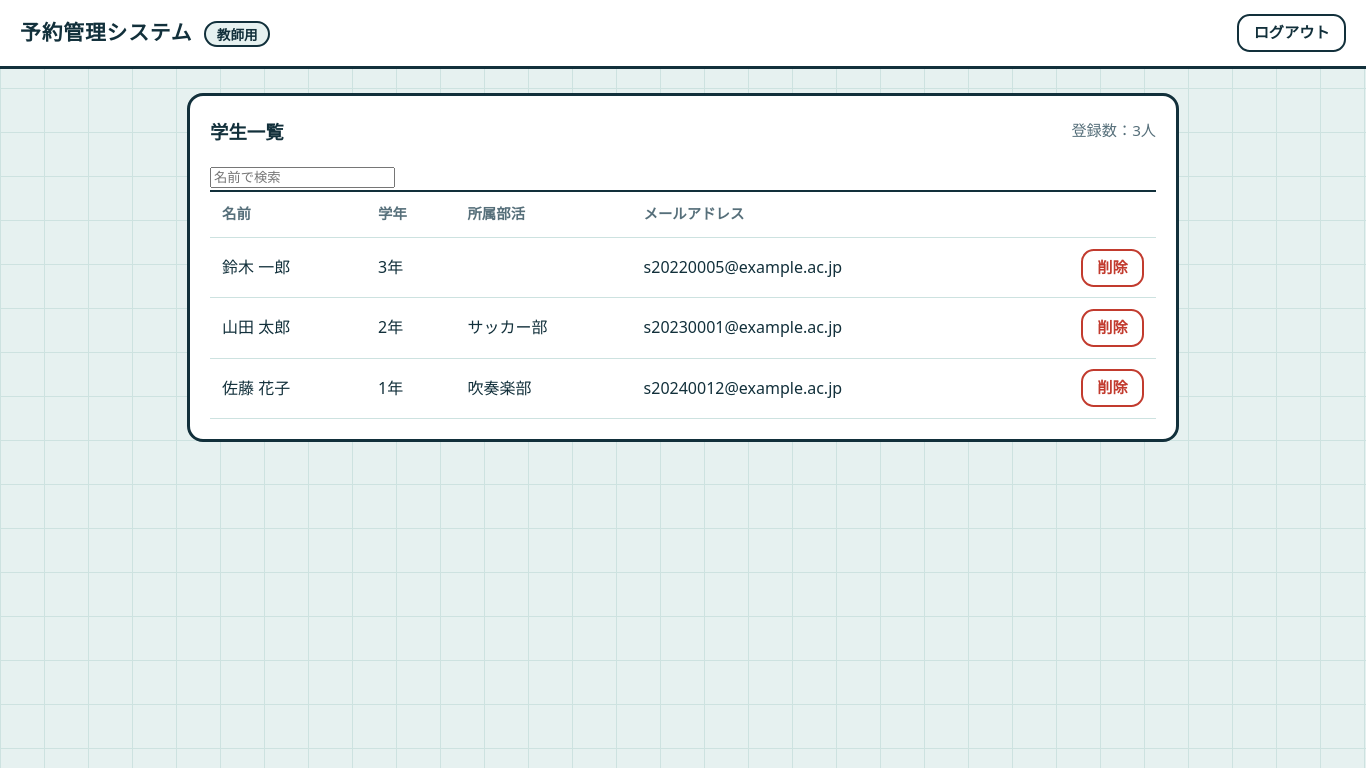
Test: 学生一覧画面（教師用） › 削除に失敗したときは、メッセージを表示して、ポップアップを閉じる
Check: the heading "学生一覧" is shown, box [210,116,284,147]
What coordinates should you click on to do the following:
click the button with aria-label "山田 太郎を削除"
I would click on:
 (1112, 328)
Its box is [1081,309,1144,347].
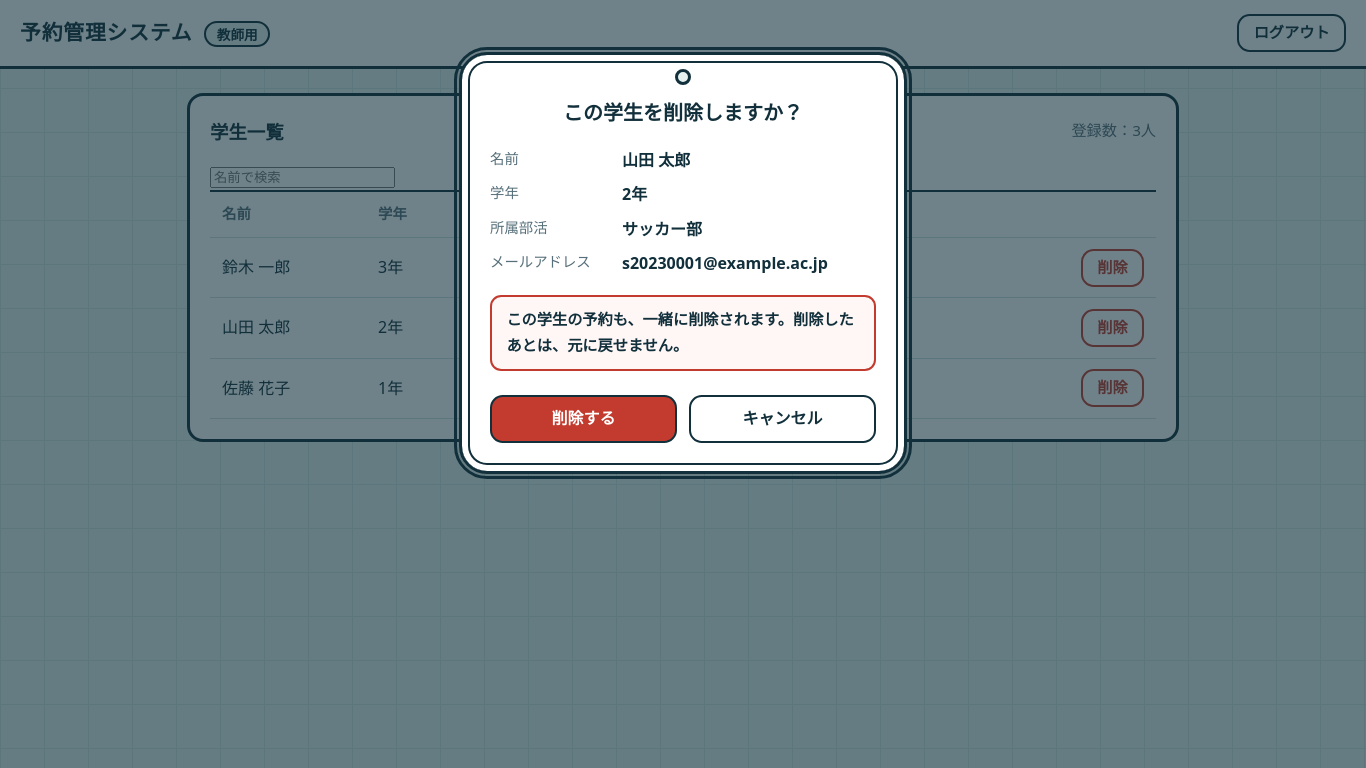
What coordinates should you click on to do the following:
click the button "削除する"
I would click on:
 (584, 419)
Its box is [490,395,677,443].
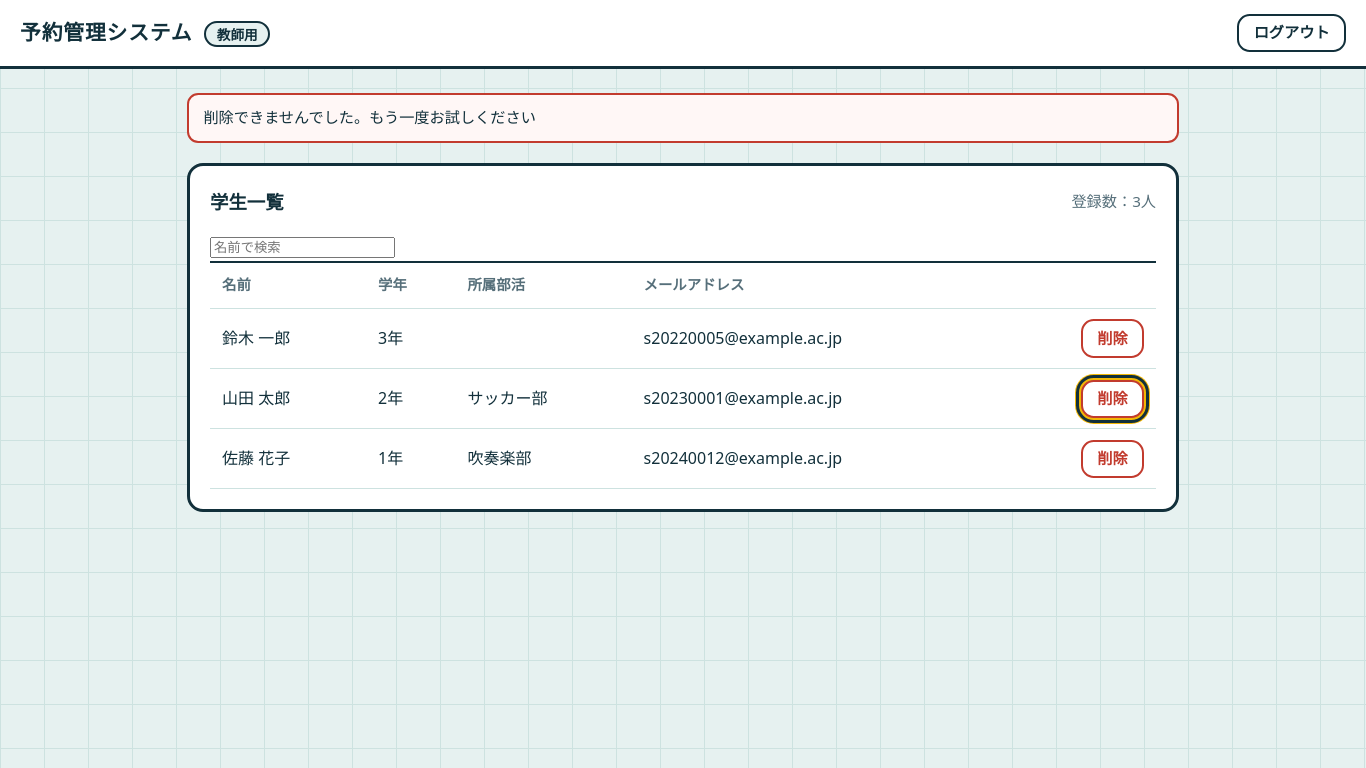
Check: the message reads "削除できませんでした。もう一度お試しください", box [203,107,536,127]
Check: the dialog is gone
